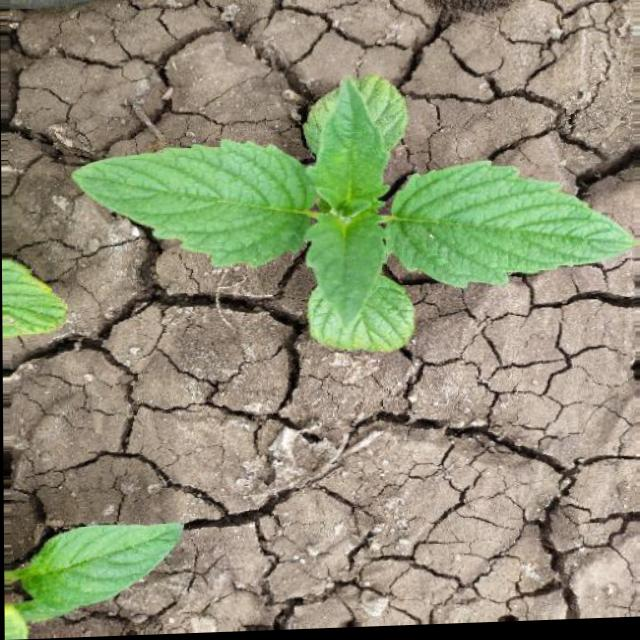crop: (78, 66, 632, 375)
